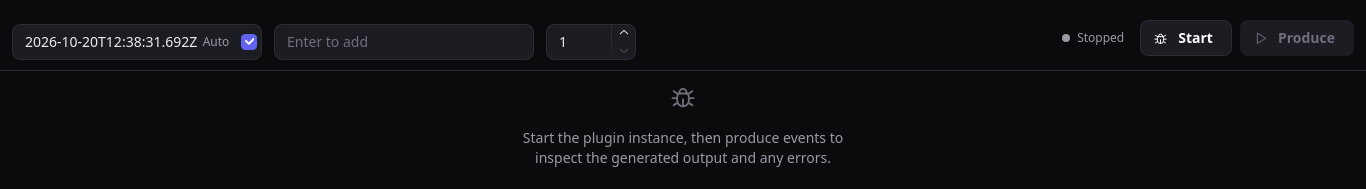
Test: DebuggerTab › says so when the parameters produced nothing
Click the button "Start". click: (1186,38)
box: [1140,20,1232,56]
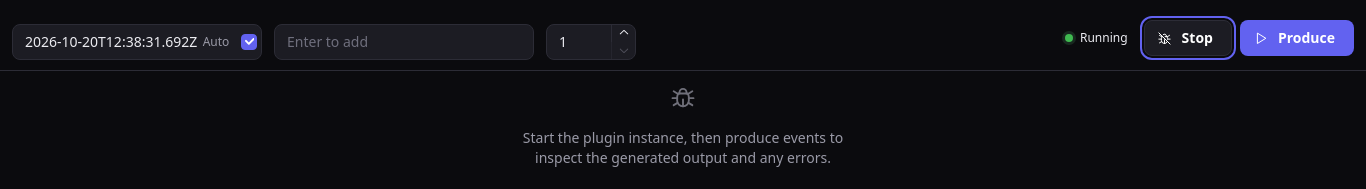
Click the button "Produce". click: (1297,38)
box: [1240,20,1354,56]
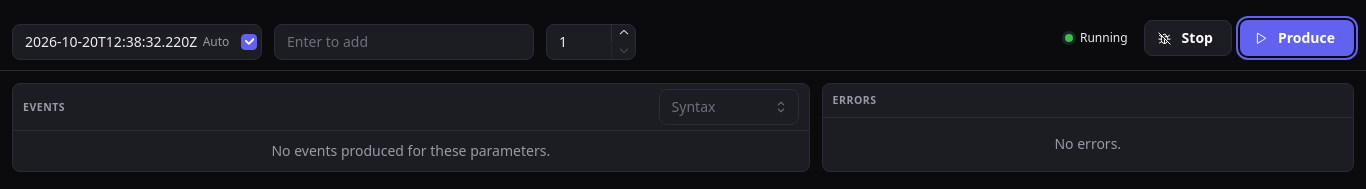
expect the text "No events produced for these parameters." is shown: met, box [272,141,550,161]
